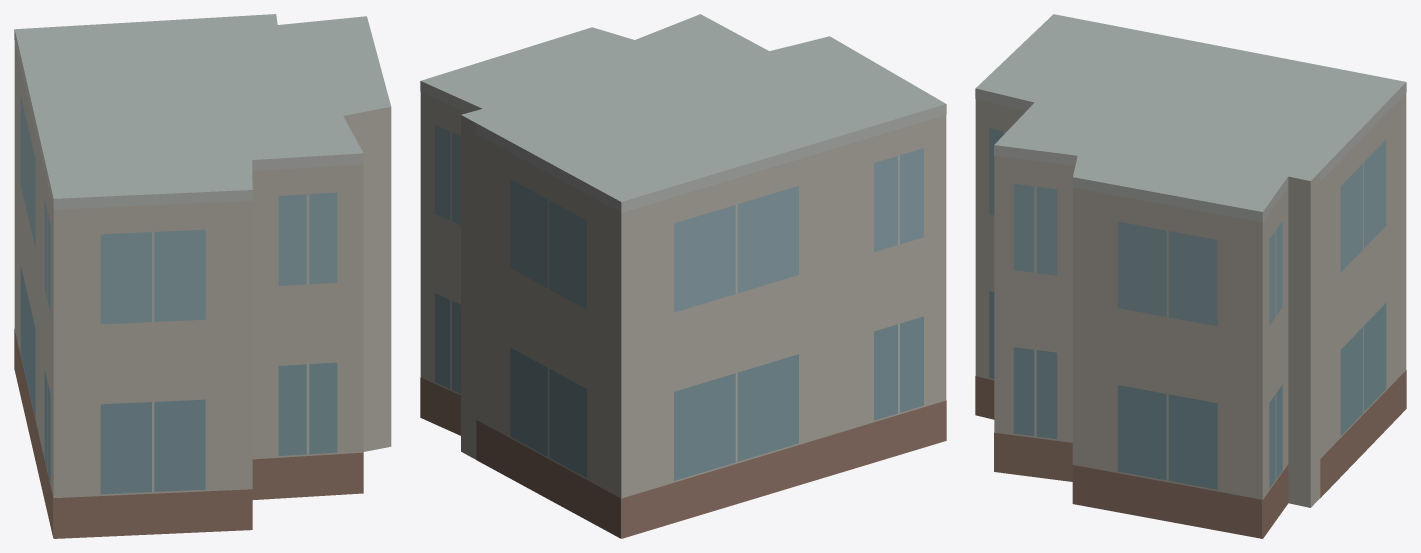
The model's file is survey-upis-32519795.glb.
3 views of the same model, side by side, from view 1: azimuth 30°, elevation 25°; view 2: azimuth 150°, elevation 25°; view 3: azimuth 270°, elevation 25° (orthographic). The views are drawn at different scales.
Parts seen in each view (by area): view 1: survey-upis-32519795.tmp; view 2: survey-upis-32519795.tmp; view 3: survey-upis-32519795.tmp.
Boxes of the visible parts, x1,y1,x2,y2 form: survey-upis-32519795.tmp: [14, 14, 391, 538]; survey-upis-32519795.tmp: [420, 14, 946, 538]; survey-upis-32519795.tmp: [975, 14, 1406, 538].
Size of the model in its own units: 9.89 by 7.6 by 9.09.
